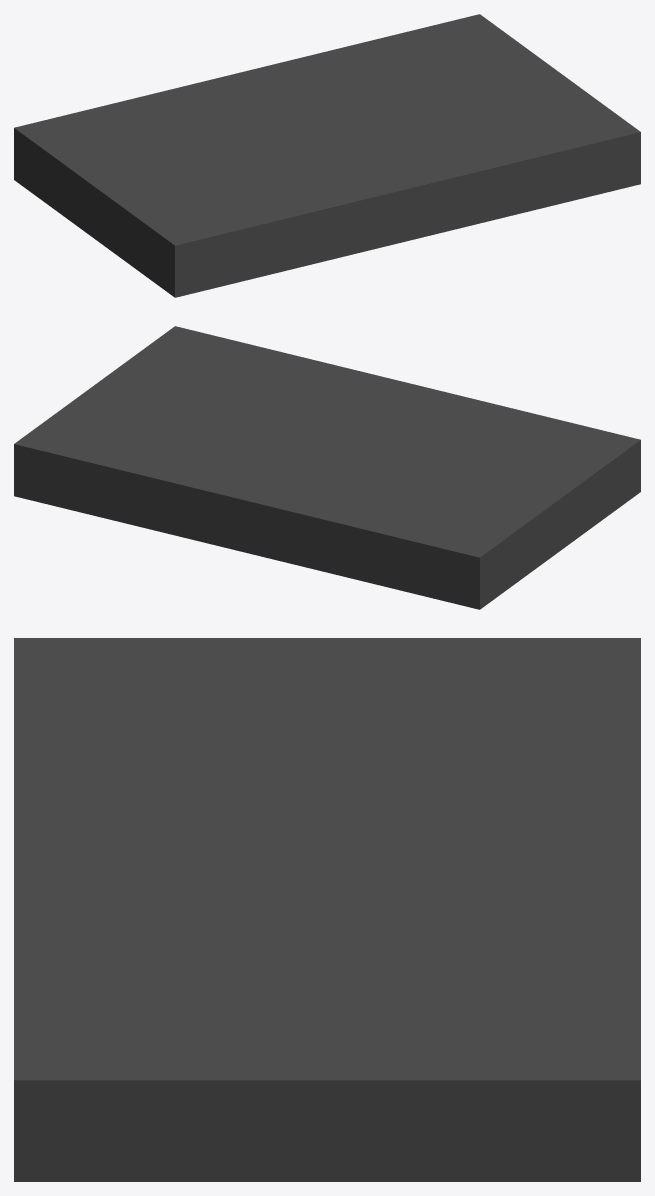
The model's file is Light_Collider.fbx.
3 views of the same model, one above another, from view 1: azimuth 30°, elevation 25°; view 2: azimuth 150°, elevation 25°; view 3: azimuth 270°, elevation 25° (orthographic). The views are drawn at different scales.
Visible parts, largest first — view 1: Light_Collider; view 2: Light_Collider; view 3: Light_Collider.
Boxes of the visible parts, box(x1,y1,x2,y2) form: Light_Collider: box(14, 14, 640, 297); Light_Collider: box(14, 326, 640, 609); Light_Collider: box(14, 638, 640, 1181).
Bounding box in the file's own units: 114 × 12.18 × 68.2.
